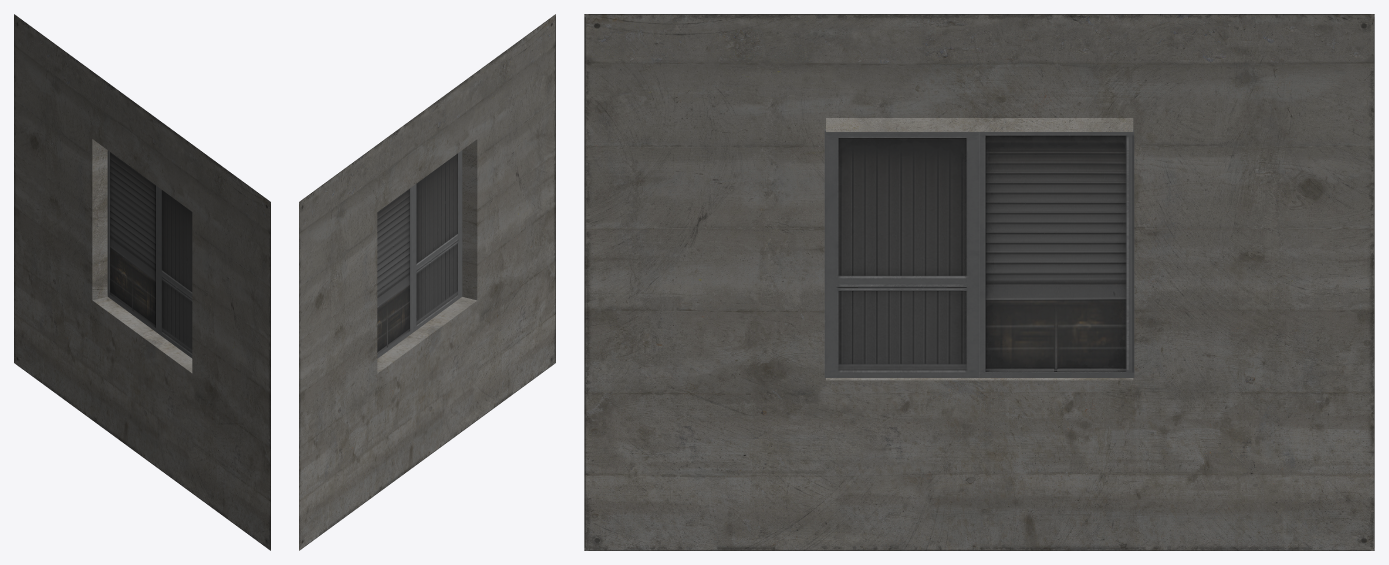
File: CP_Windows_B_4x3m_01.fbx
3 renders of one model, left to right at view 1: azimuth 30°, elevation 25°; view 2: azimuth 150°, elevation 25°; view 3: azimuth 270°, elevation 25°, orthographic. The views are drawn at different scales.
Visible parts, largest first — view 1: CP_Windows_B_4x3m_01; view 2: CP_Windows_B_4x3m_01; view 3: CP_Windows_B_4x3m_01.
Part boxes in pixels (<box>): CP_Windows_B_4x3m_01: <box>14,14,270,550</box>; CP_Windows_B_4x3m_01: <box>299,14,555,550</box>; CP_Windows_B_4x3m_01: <box>584,14,1374,550</box>.
Size of the model in its own units: 16.79 by 300 by 400.
